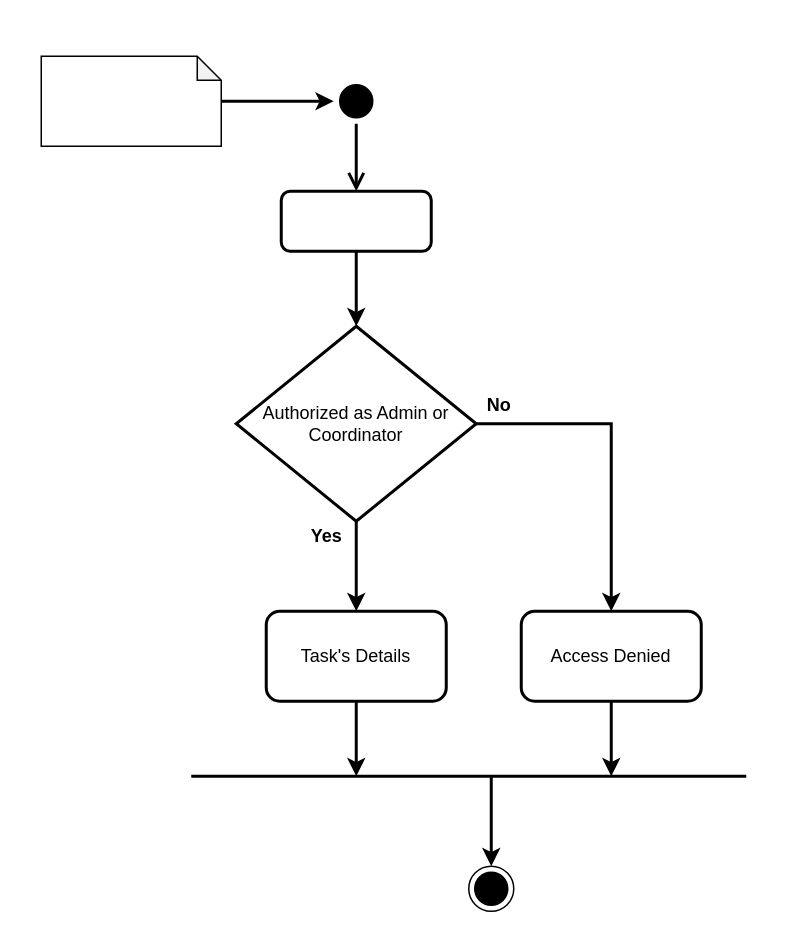
This 786x951 diagram has some shape labels left out. Here are the shapes that lost their labels. From the top down, the box of each, then its label:
(40, 55, 221, 146): User is Logged in
(279, 189, 432, 252): Assign Task
